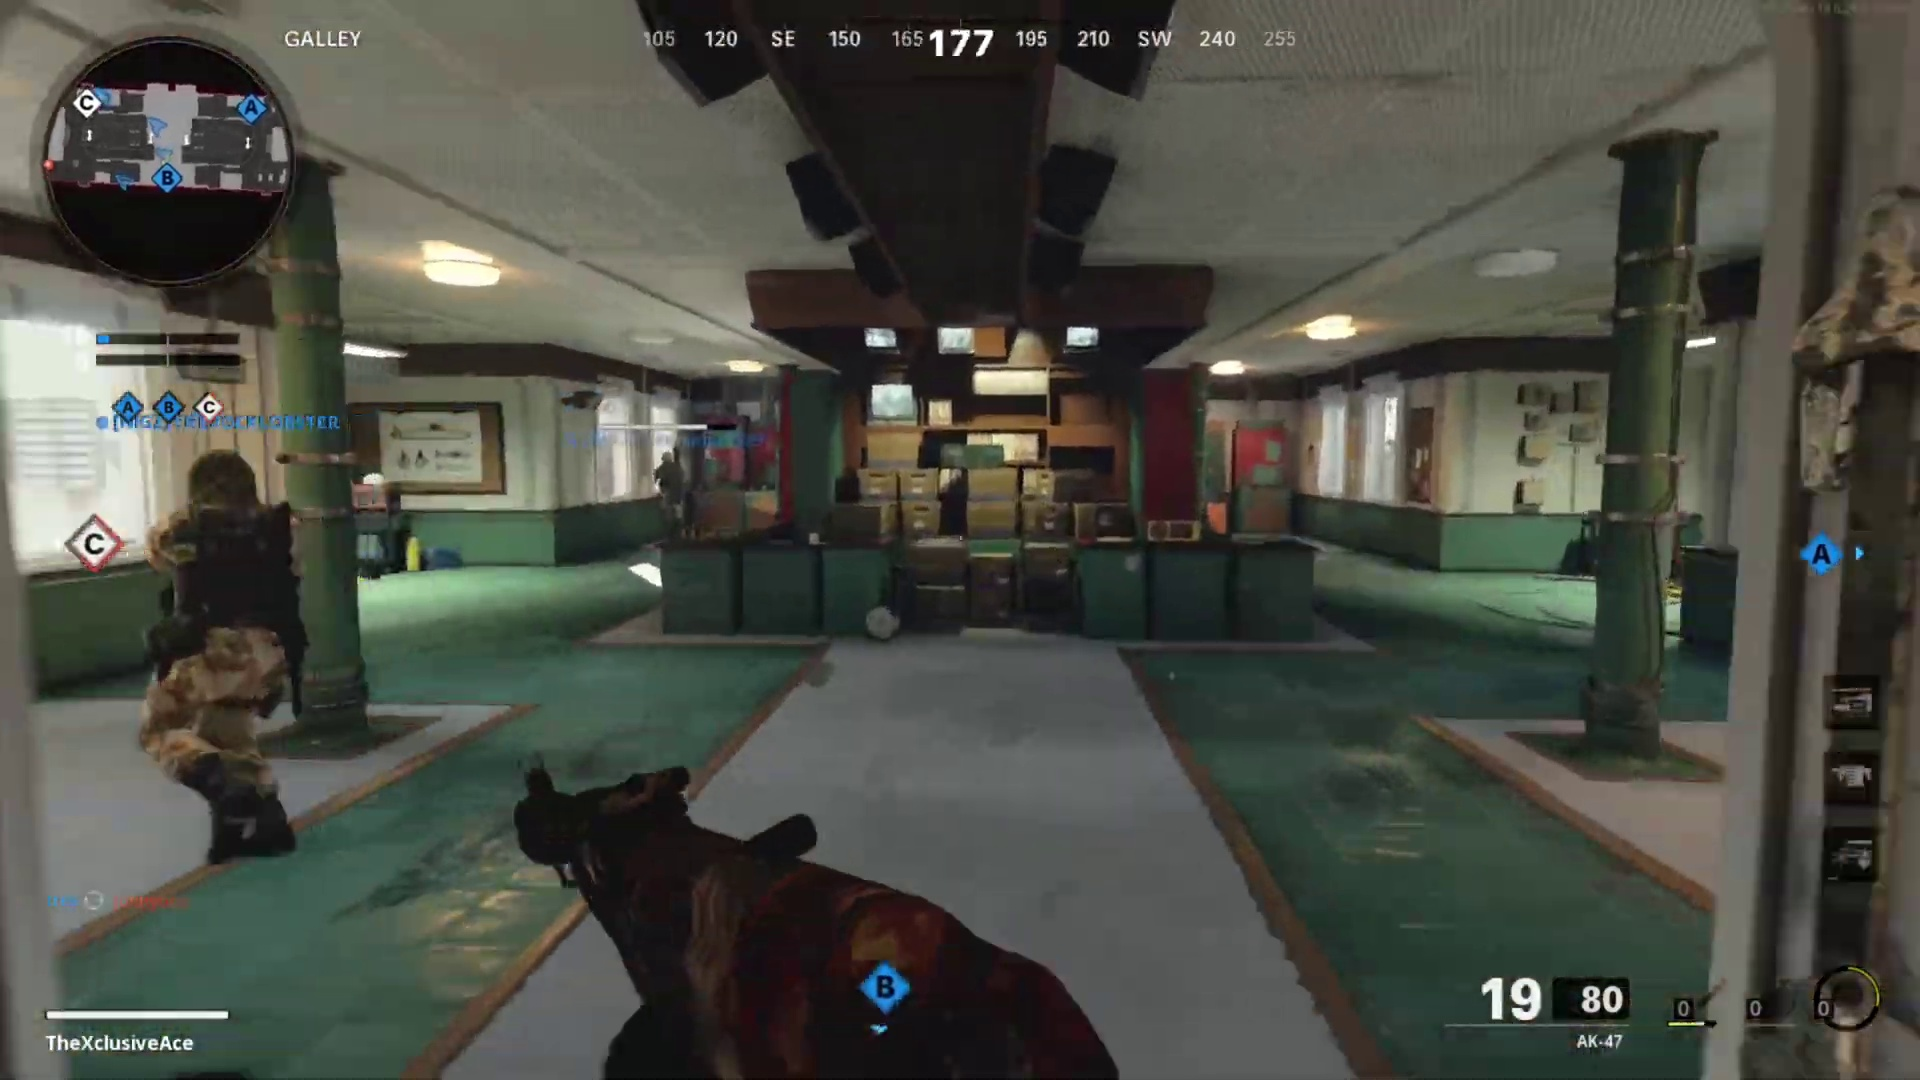head: (169, 446, 273, 549), (655, 447, 677, 467)
person: (134, 444, 309, 871), (650, 449, 684, 534)
